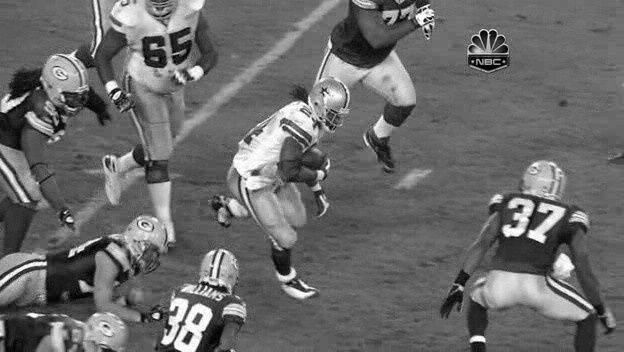person: (314, 79, 350, 130), (313, 79, 349, 130), (315, 79, 351, 130), (314, 78, 350, 129), (314, 80, 350, 131)
target_negative: (388, 16, 483, 301), (247, 180, 343, 351), (488, 277, 559, 336), (380, 36, 446, 90), (242, 220, 301, 272), (447, 255, 449, 328)
